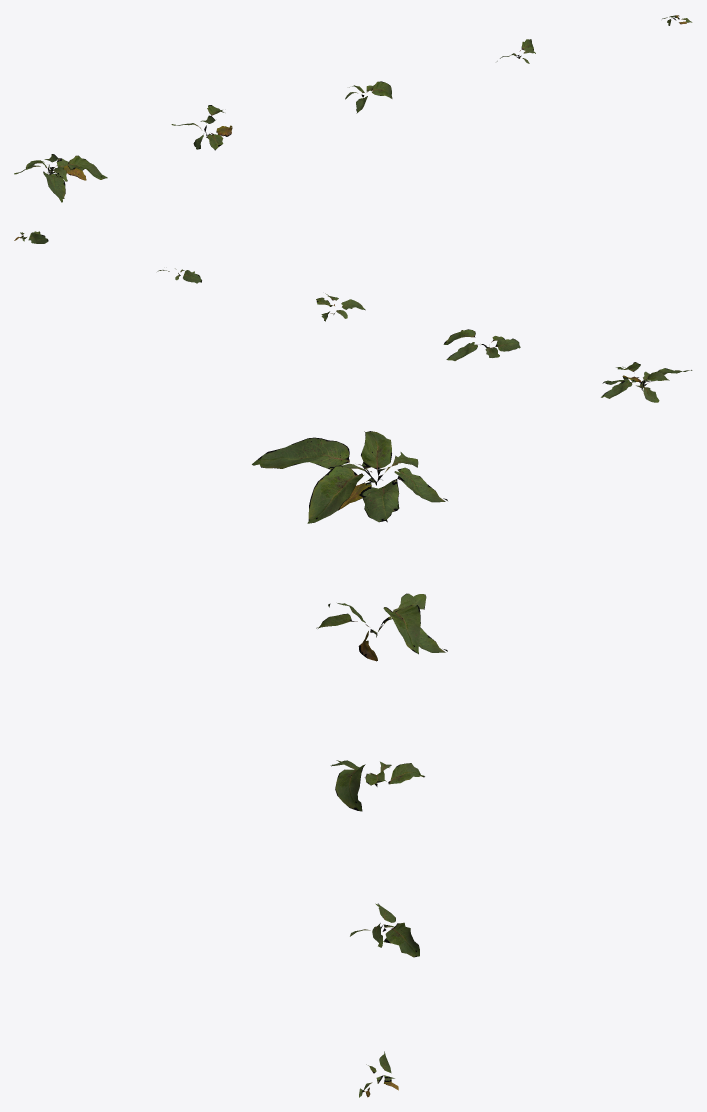
The model's file is weed_plant_02.glb.
3 views of the same model, one above another, from view 1: azimuth 30°, elevation 25°; view 2: azimuth 150°, elevation 25°; view 3: azimuth 270°, elevation 25° (orthographic). The views are drawn at different scales.
Parts seen in each view (by area): view 1: weed_plant_02; view 2: weed_plant_02; view 3: weed_plant_02.
Part boxes in pixels (x1,y1,x2,y2): weed_plant_02: [14, 15, 692, 202]; weed_plant_02: [14, 231, 692, 402]; weed_plant_02: [252, 431, 447, 1097].
Size of the model in its own units: 2.12 by 0.0713 by 0.2861.
Materials: 1 (1 with a texture image).
